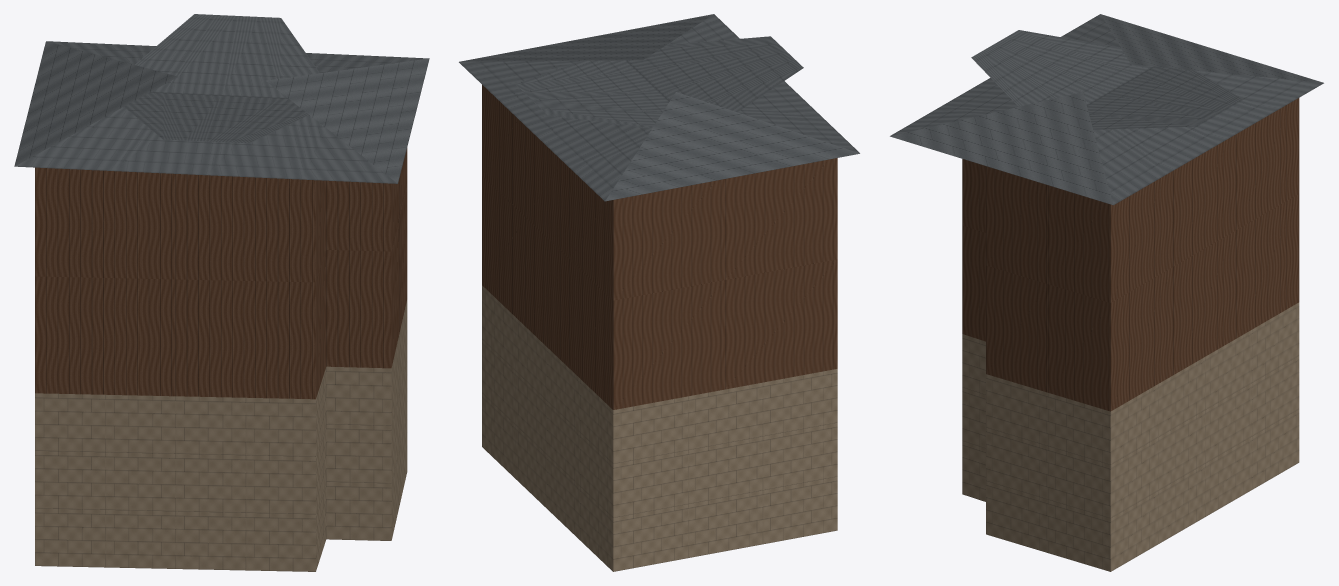
Rendered from bld_c39_33_294.gltf.
The picture shows the model from 3 angles, left to right: view 1: azimuth 30°, elevation 25°; view 2: azimuth 150°, elevation 25°; view 3: azimuth 270°, elevation 25°; orthographic projection. The views are drawn at different scales.
Visible parts, largest first — view 1: bld_c39_33_294; view 2: bld_c39_33_294; view 3: bld_c39_33_294.
Boxes of the visible parts, x1,y1,x2,y2 form: bld_c39_33_294: [14, 14, 429, 571]; bld_c39_33_294: [459, 14, 859, 571]; bld_c39_33_294: [890, 14, 1323, 571].
Size of the model in its own units: 13.05 by 13 by 12.54.
Materials: 3 (3 with a texture image).
